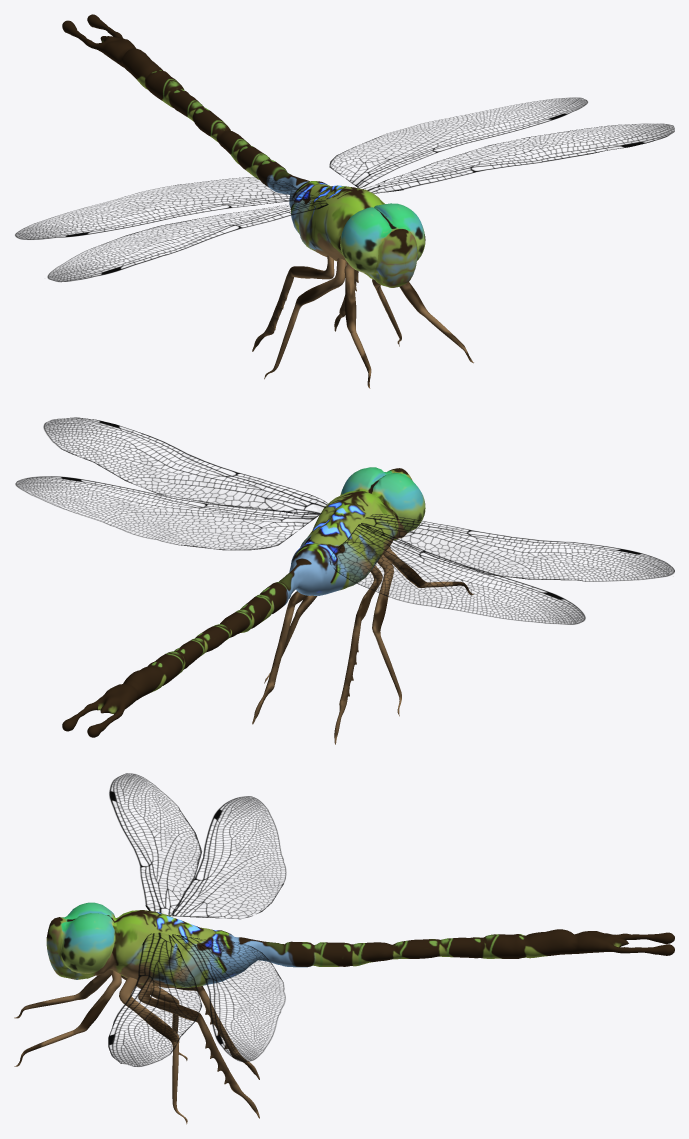
File: duskhawker.glb
The picture shows the model from 3 angles, top to bottom: view 1: azimuth 30°, elevation 25°; view 2: azimuth 150°, elevation 25°; view 3: azimuth 270°, elevation 25°; orthographic projection. The views are drawn at different scales.
Parts seen in each view (by area): view 1: duskhawker_low; view 2: duskhawker_low; view 3: duskhawker_low.
Boxes of the visible parts, <box> form: duskhawker_low: <box>15,14,674,388</box>; duskhawker_low: <box>15,417,674,744</box>; duskhawker_low: <box>14,773,674,1124</box>.
Bounding box in the file's own units: 4.27 × 1.28 × 4.06.
Materials: 1 (1 with a texture image).
